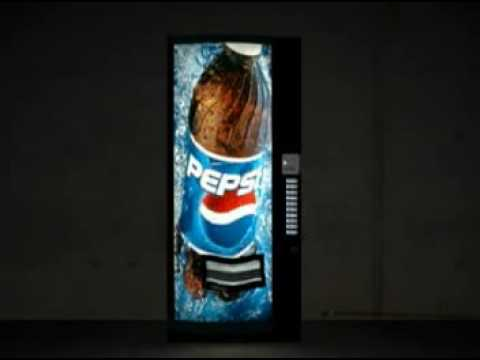pepsi: (198, 185, 258, 248)
